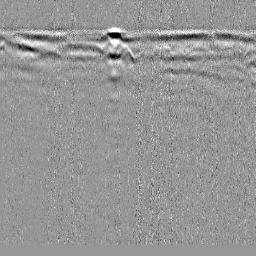cavity: (121, 46, 135, 62)
